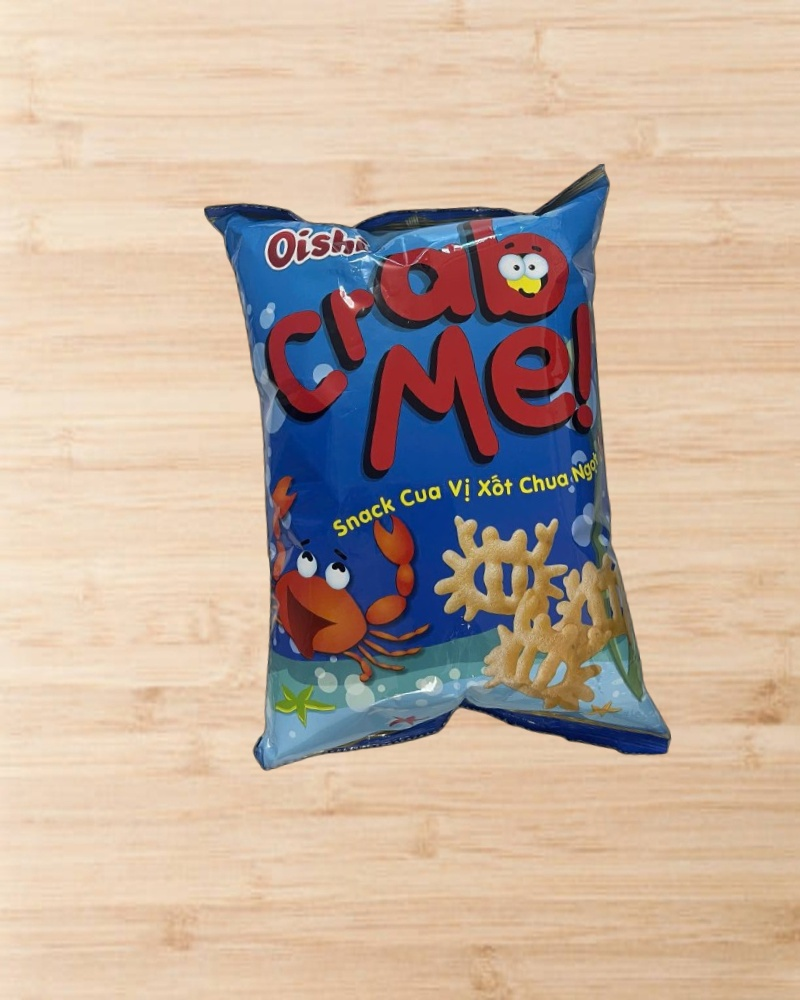Snack chay: (204, 163, 673, 791)
